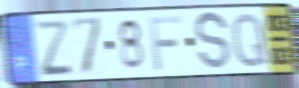7: (71, 16, 104, 78)
8: (117, 17, 147, 73)
F: (148, 14, 184, 73)
Q: (230, 10, 270, 70)
S: (194, 9, 233, 74)
Z: (32, 19, 76, 78)
